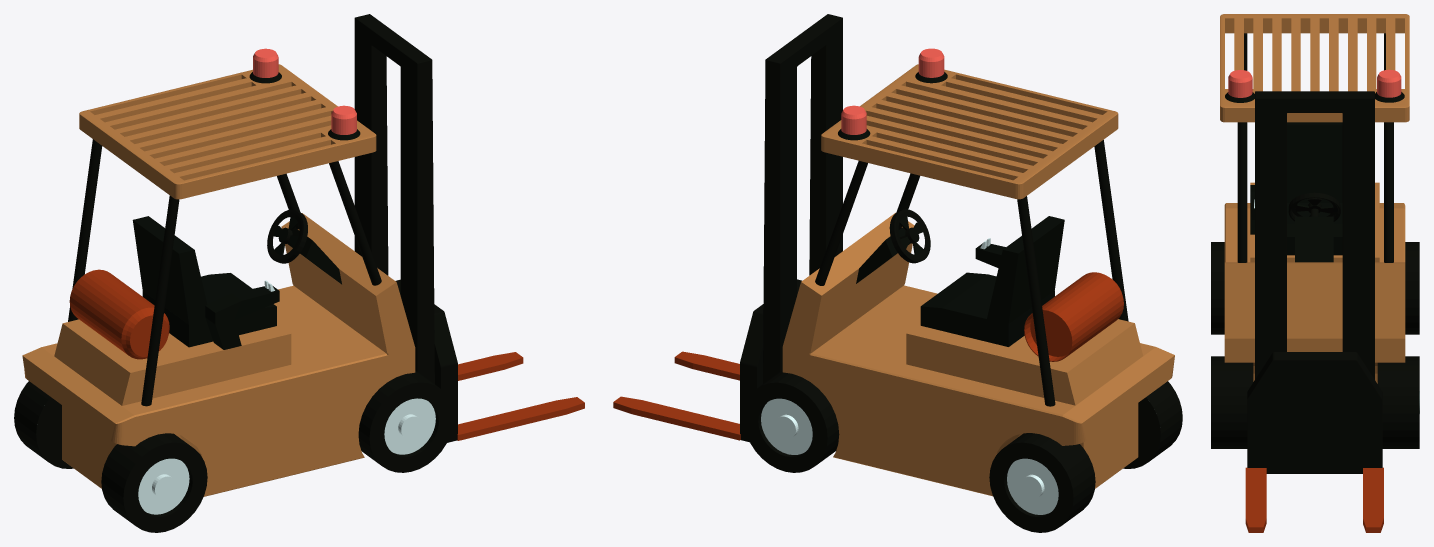
Rendered from Forklift-transformed.glb.
3 views of the same model, side by side, from view 1: azimuth 30°, elevation 25°; view 2: azimuth 150°, elevation 25°; view 3: azimuth 270°, elevation 25° (orthographic). The views are drawn at different scales.
Parts seen in each view (by area): view 1: Body, Supports, Roof, BackRightWheel, FrontWheels, Forks, Lights, BackLeftWheel, Axels; view 2: Body, Supports, Roof, BackLeftWheel, FrontWheels, Forks, Lights, BackRightWheel, Axels; view 3: Supports, Forks, Body, Roof, FrontWheels, Lights, BackLeftWheel, BackRightWheel.
Boxes of the visible parts, box(x1,y1,x2,y2) form: Body: box(22, 213, 415, 496); Supports: box(68, 14, 434, 406); Roof: box(79, 64, 376, 199); BackRightWheel: box(101, 433, 207, 532); FrontWheels: box(358, 371, 453, 472); Forks: box(395, 279, 584, 442); Lights: box(249, 48, 360, 140); BackLeftWheel: box(14, 381, 50, 461); Axels: box(36, 397, 73, 468); Body: box(782, 212, 1174, 496); Supports: box(763, 14, 1128, 406); Roof: box(821, 64, 1118, 199); BackLeftWheel: box(989, 433, 1095, 532); FrontWheels: box(743, 370, 839, 472); Forks: box(613, 279, 801, 442); Lights: box(838, 48, 947, 140); BackRightWheel: box(1146, 381, 1182, 461); Axels: box(1123, 397, 1160, 468); Supports: box(1237, 34, 1393, 379); Forks: box(1245, 352, 1383, 532); Body: box(1224, 182, 1405, 383); Roof: box(1220, 14, 1409, 122); FrontWheels: box(1211, 356, 1419, 448); Lights: box(1225, 69, 1404, 102); BackLeftWheel: box(1405, 242, 1419, 334); BackRightWheel: box(1211, 242, 1224, 334).
Size of the model in its own units: 7.79 by 5.95 by 3.07.
1 material, 1 textured.
